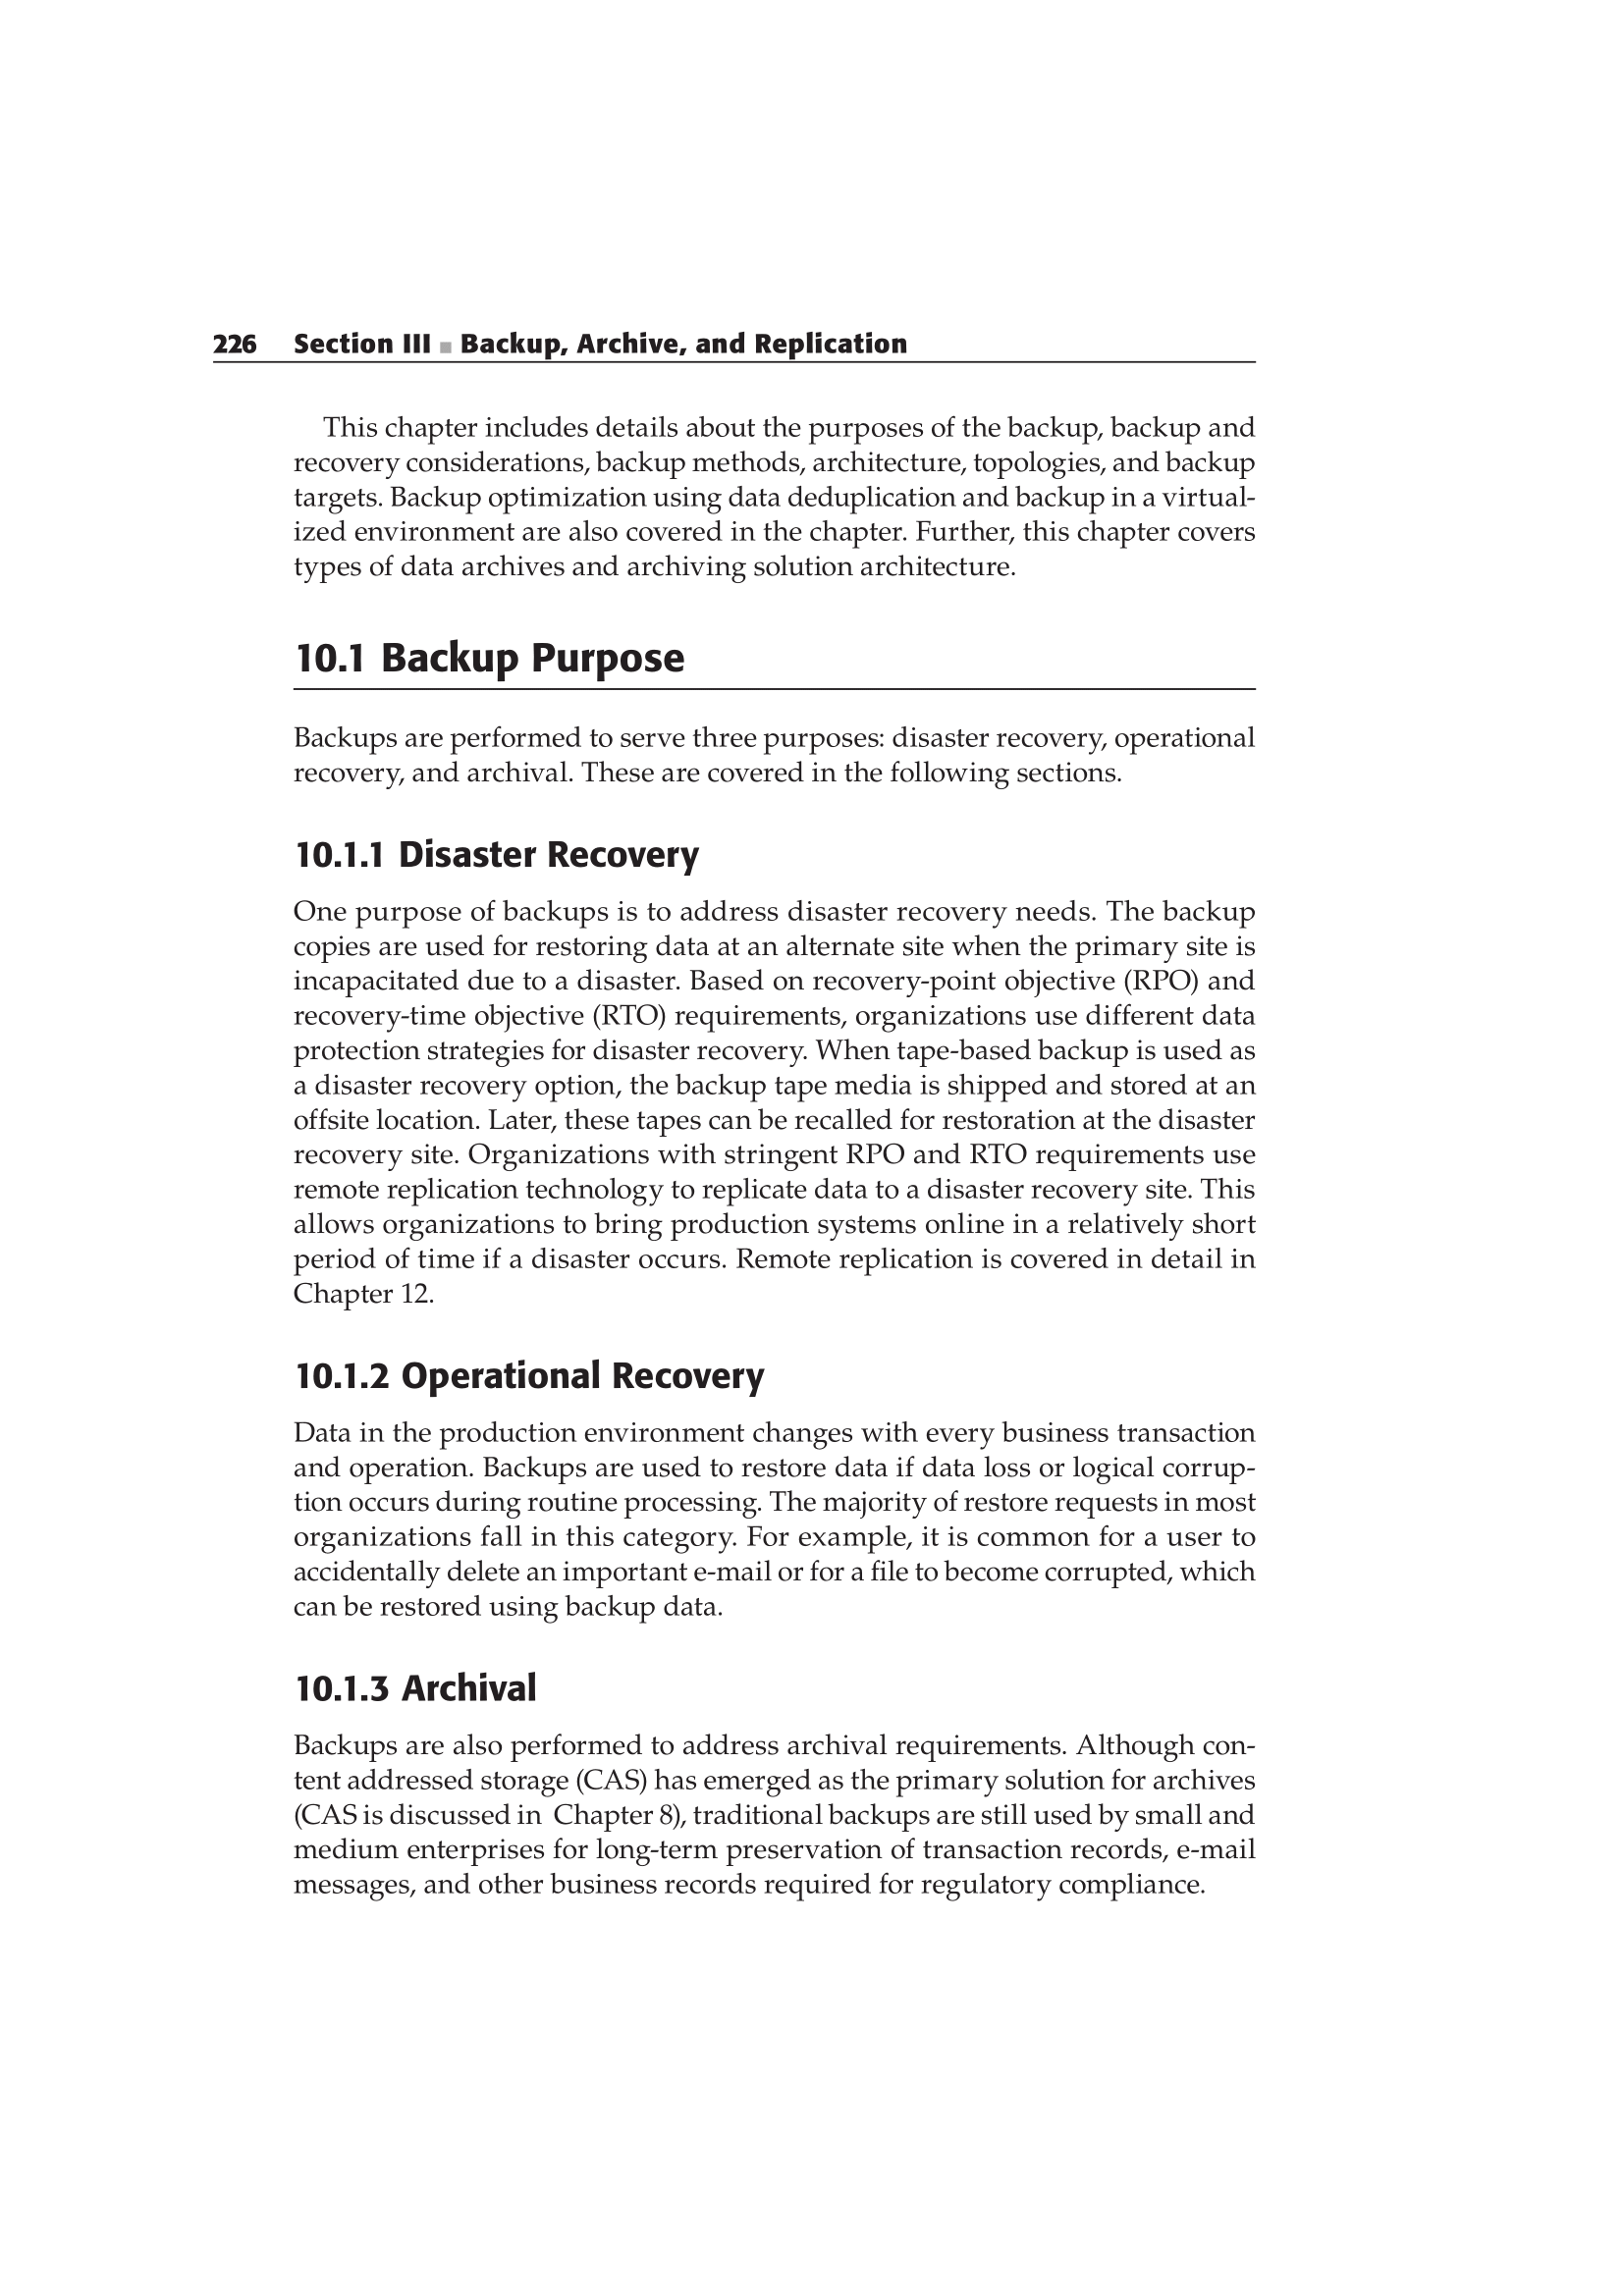Paragraph: (283, 895, 1259, 1324), (283, 1411, 1270, 1634), (265, 393, 1265, 599), (279, 1734, 1265, 1903), (283, 713, 1256, 799), (188, 319, 936, 374), (283, 822, 711, 881), (279, 1352, 776, 1401), (269, 625, 708, 679), (279, 1639, 562, 1717)
